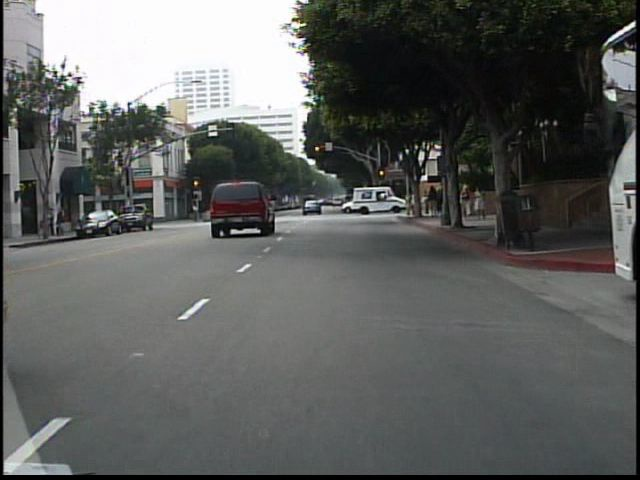person: (473, 181, 487, 223), (459, 183, 471, 222)
